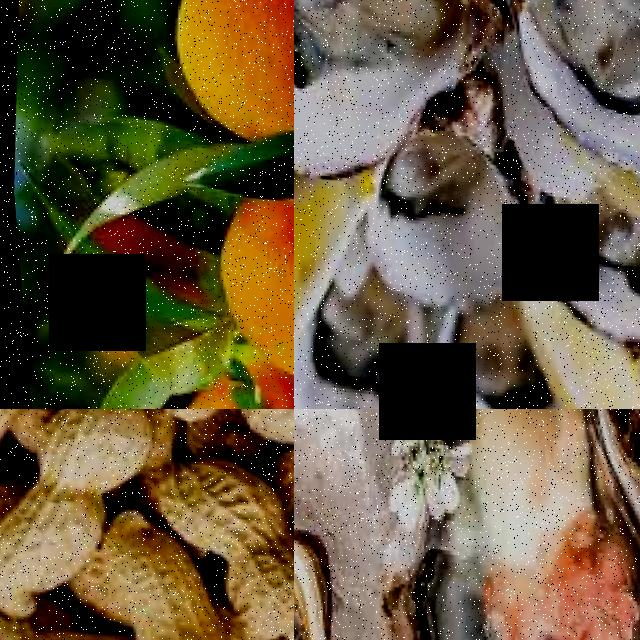orange: (149, 0, 294, 147), (194, 194, 294, 396)
oysters: (403, 409, 640, 640), (343, 95, 526, 318), (294, 0, 506, 186), (509, 0, 640, 189), (294, 279, 432, 409), (403, 294, 546, 409), (526, 215, 640, 354)
peanuts: (16, 409, 150, 523), (143, 458, 283, 567), (0, 483, 99, 622), (105, 562, 238, 640), (221, 534, 294, 640), (230, 409, 294, 454)
